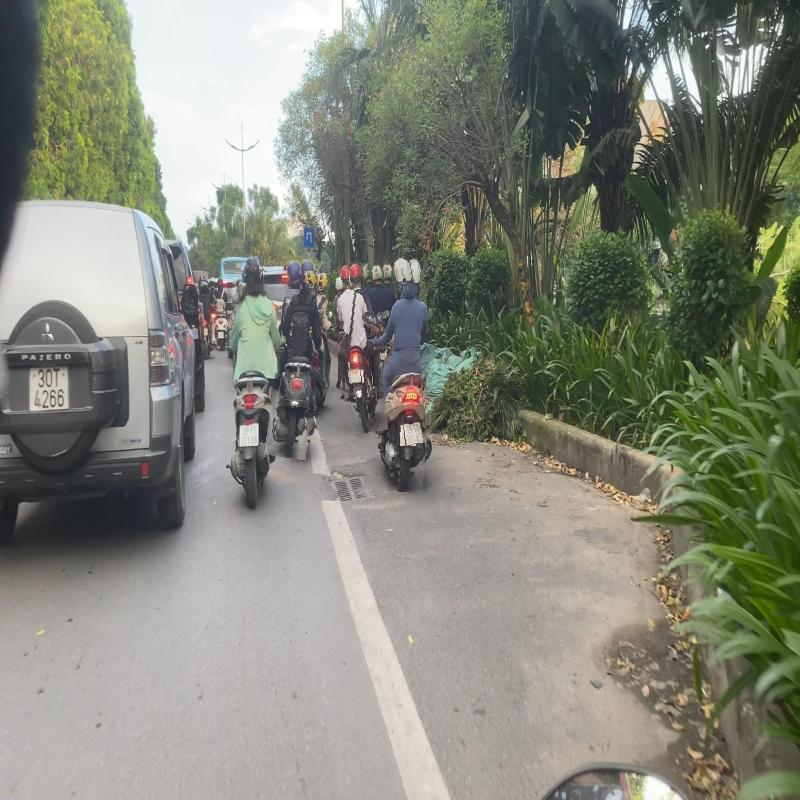helmet: (393, 257, 413, 287), (242, 256, 263, 284), (288, 260, 303, 289), (348, 264, 364, 290), (372, 264, 384, 289), (305, 270, 318, 292)
licenseplate: (239, 423, 259, 446), (404, 423, 423, 445), (348, 369, 362, 384)
motorcyclist: (368, 257, 437, 492), (226, 256, 281, 508), (272, 258, 326, 460), (332, 263, 384, 434)
